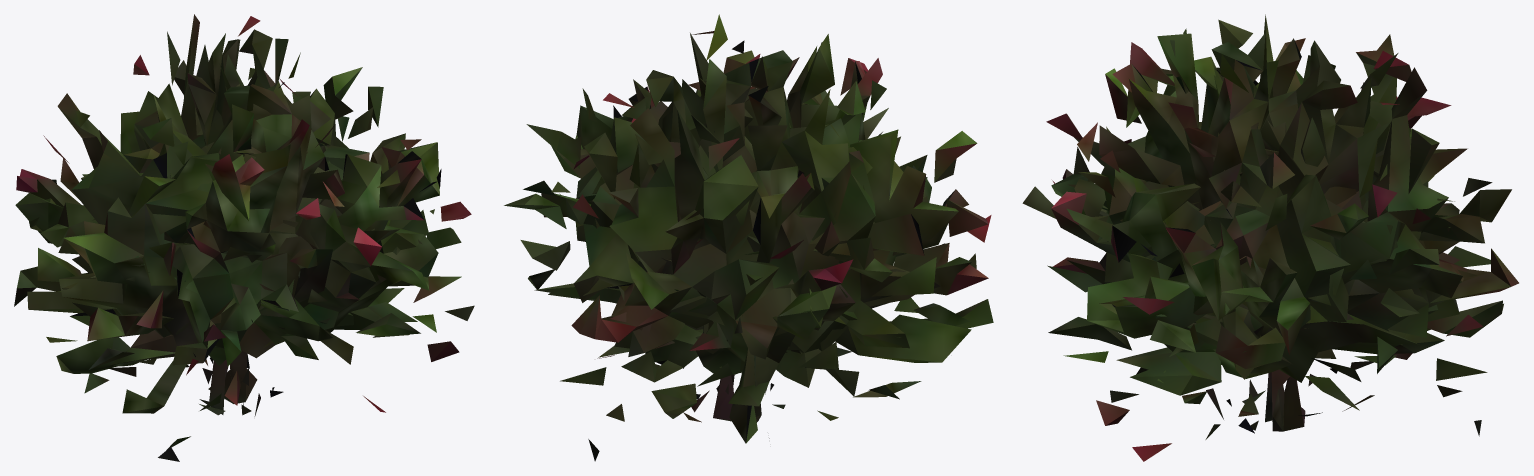
The model's file is bush_raspberry_lod0.glb.
3 renders of one model, left to right at view 1: azimuth 30°, elevation 25°; view 2: azimuth 150°, elevation 25°; view 3: azimuth 270°, elevation 25°, orthographic. The views are drawn at different scales.
Visible parts, largest first — view 1: bush_raspberry_lod0; view 2: bush_raspberry_lod0; view 3: bush_raspberry_lod0.
Boxes of the visible parts, box(x1,y1,x2,y2) form: bush_raspberry_lod0: box(14, 14, 474, 461); bush_raspberry_lod0: box(504, 14, 993, 461); bush_raspberry_lod0: box(1022, 14, 1518, 461).
Size of the model in its own units: 1.1 by 0.9882 by 1.11.
1 material, 1 textured.
